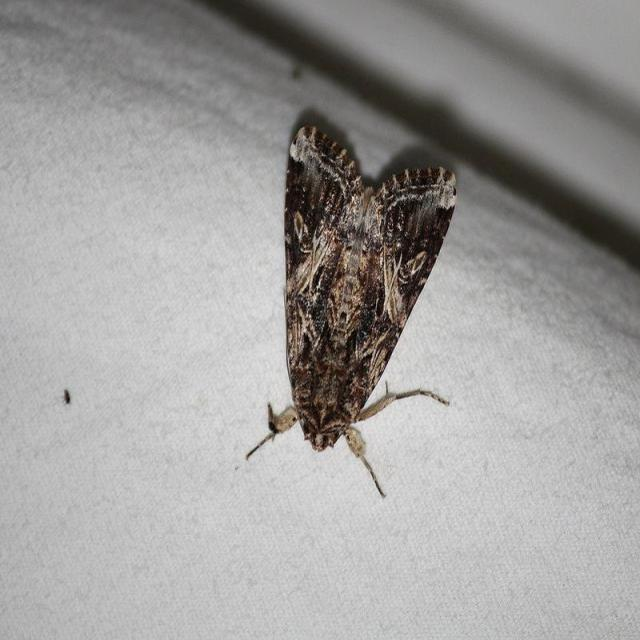army worm: (241, 113, 470, 502)
